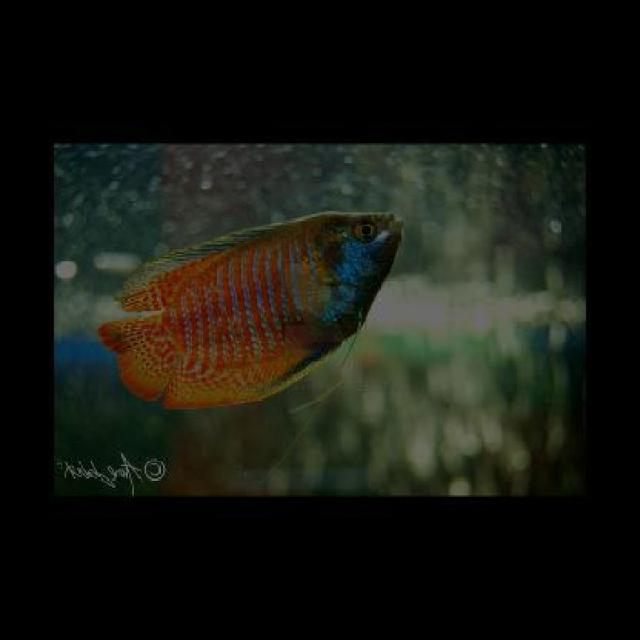Gourami: (97, 206, 406, 409)
